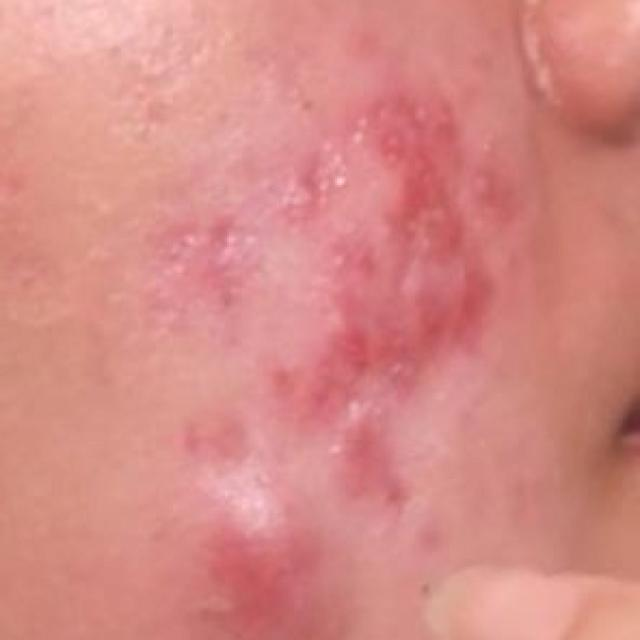nodule: (208, 487, 320, 608)
